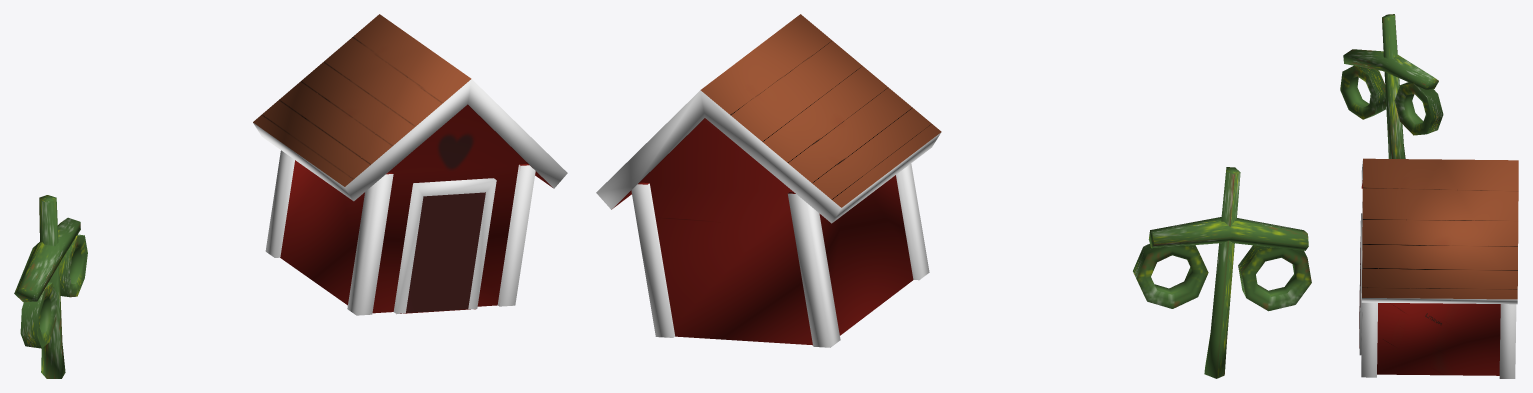
File: grassTile4.obj
3 renders of one model, left to right at view 1: azimuth 30°, elevation 25°; view 2: azimuth 150°, elevation 25°; view 3: azimuth 270°, elevation 25°, orthographic. The views are drawn at different scales.
Parts seen in each view (by area): view 1: HouseTile4_Cube.006; view 2: HouseTile4_Cube.006; view 3: HouseTile4_Cube.006.
Part boxes in pixels (<box>): HouseTile4_Cube.006: <box>14,14,567,378</box>; HouseTile4_Cube.006: <box>596,14,1311,378</box>; HouseTile4_Cube.006: <box>1340,14,1518,378</box>.
Bounding box in the file's own units: 7.41 × 3.04 × 2.43.
